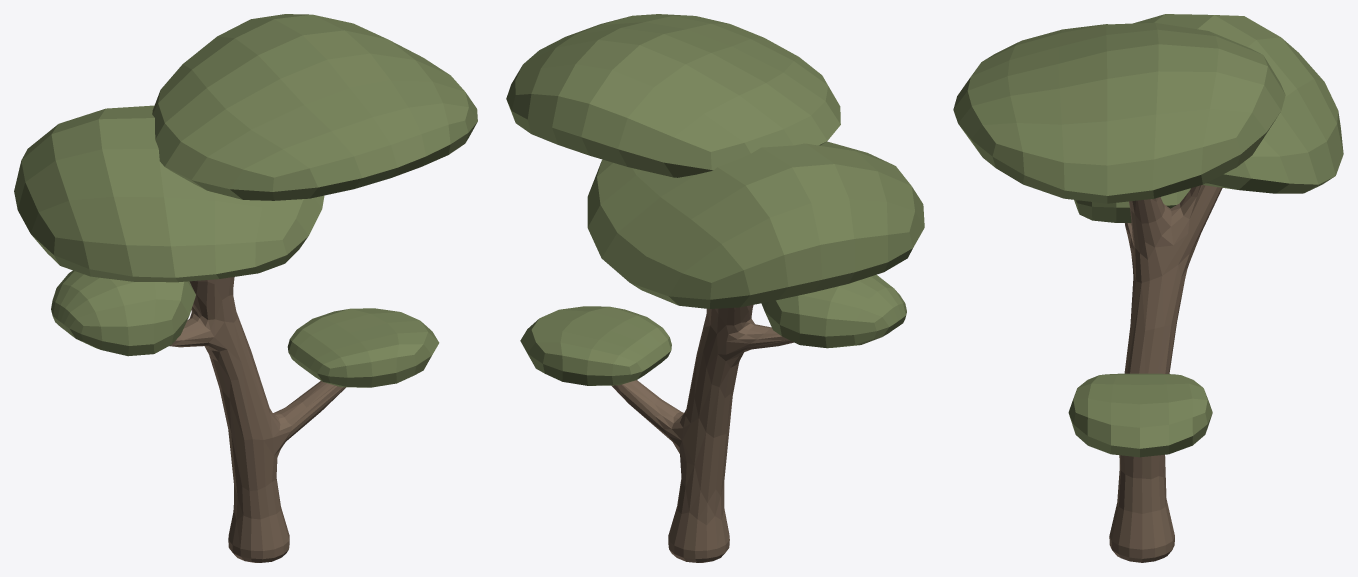
File: tree-6.fbx
The picture shows the model from 3 angles, left to right: view 1: azimuth 30°, elevation 25°; view 2: azimuth 150°, elevation 25°; view 3: azimuth 270°, elevation 25°; orthographic projection. The views are drawn at different scales.
Visible parts, largest first — view 1: Cube.046, Cube.047, Cube.042, Cube.044, Cube.045; view 2: Cube.047, Cube.046, Cube.042, Cube.044, Cube.045; view 3: Cube.046, Cube.042, Cube.047, Cube.044, Cube.045.
Part boxes in pixels (<box>): Cube.046: <box>152,14,477,200</box>; Cube.047: <box>14,105,324,282</box>; Cube.042: <box>169,277,345,562</box>; Cube.044: <box>287,308,439,387</box>; Cube.045: <box>51,270,195,356</box>; Cube.047: <box>587,141,924,308</box>; Cube.046: <box>506,14,840,177</box>; Cube.042: <box>611,305,793,562</box>; Cube.044: <box>520,306,671,385</box>; Cube.045: <box>761,274,906,348</box>; Cube.046: <box>953,22,1285,203</box>; Cube.042: <box>1109,185,1222,562</box>; Cube.047: <box>1133,14,1343,193</box>; Cube.044: <box>1068,373,1212,457</box>; Cube.045: <box>1074,188,1190,222</box>.
Bounding box in the file's own units: 2012 × 2437 × 1599.
